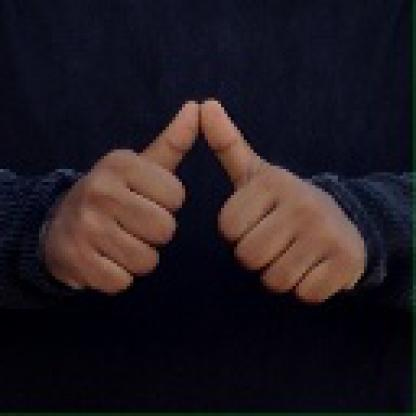A: (51, 90, 370, 310)
